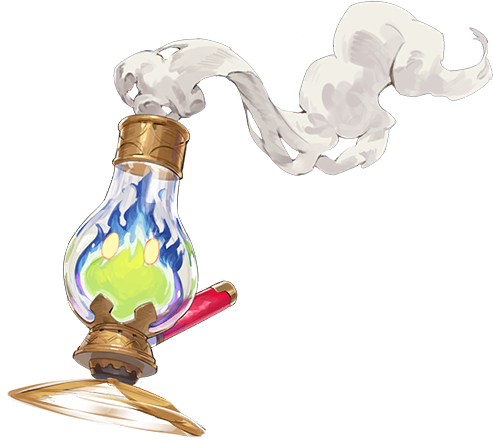person: (16, 5, 422, 441)
